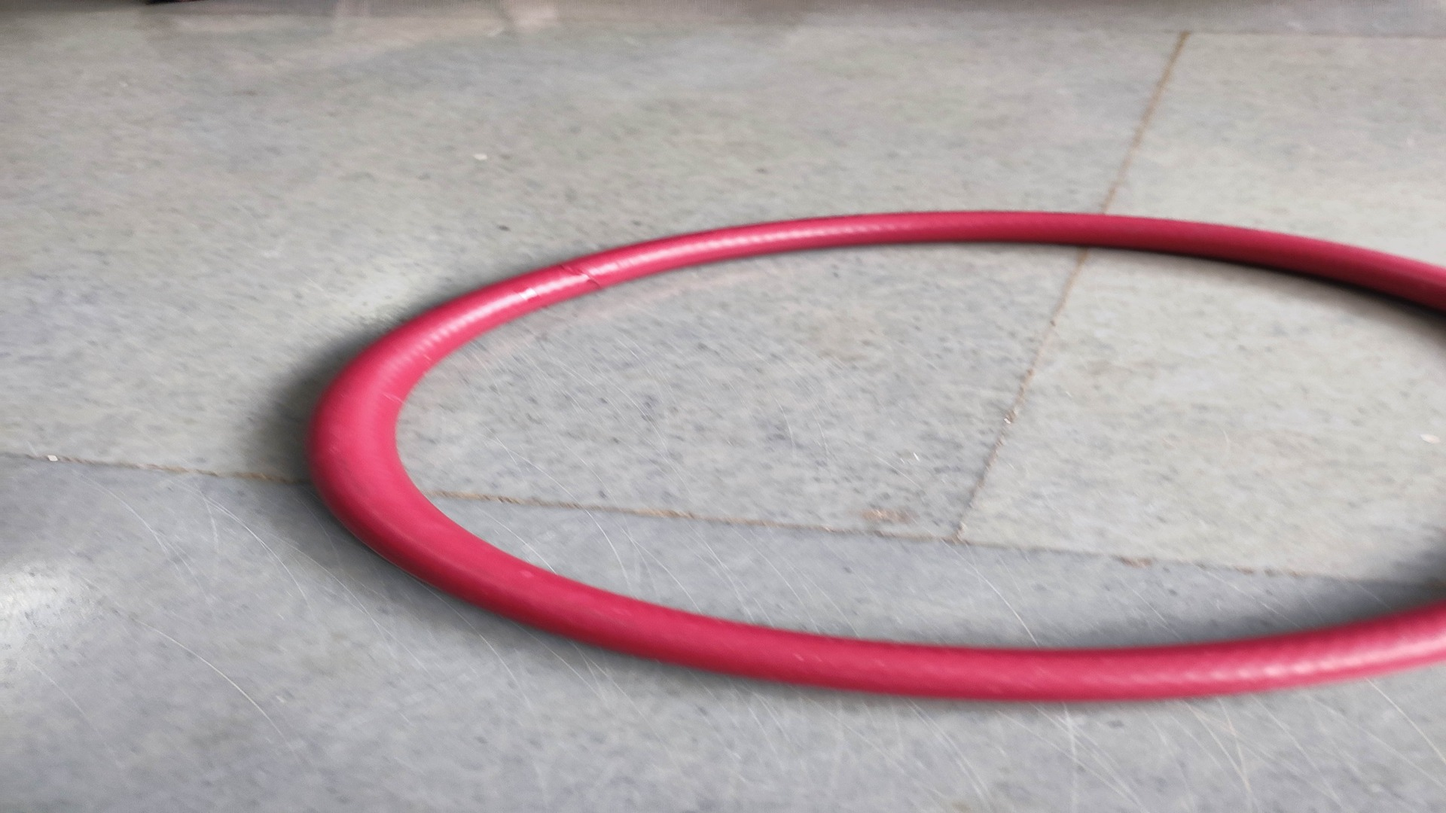Red ring: (302, 210, 1446, 703)
